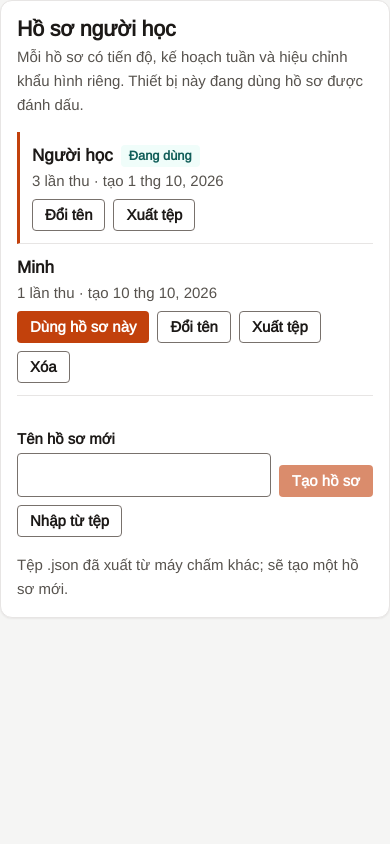
ProfilesCard › lists profiles, marks the active one and switches (dropping the local calibration)
This screenshot has width=390, height=844.
Check: the text "Minh" is shown, box [17, 258, 54, 277]
Click the button "Dùng hồ sơ này". click: (83, 327)
box: [17, 311, 150, 343]
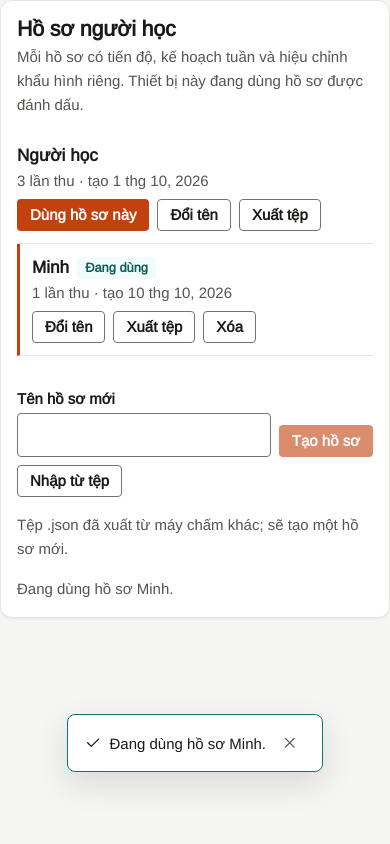
Check: the message "Đang dùng hồ sơ Minh." below "Nhập từ tệp" is shown, box [17, 580, 173, 597]
